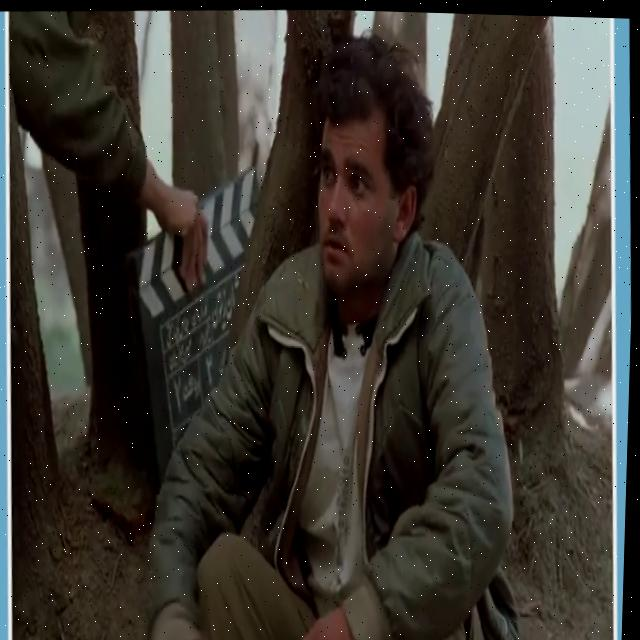Clapperboard: (126, 166, 267, 494)
